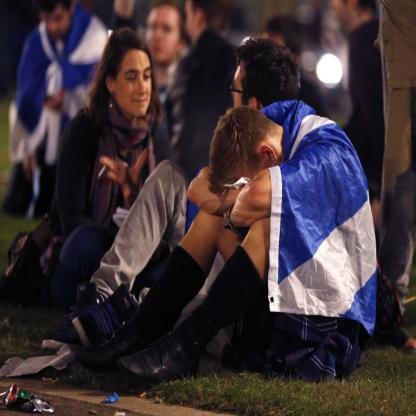face: (119, 53, 152, 117), (149, 8, 180, 61), (232, 65, 255, 128), (42, 3, 69, 41), (334, 1, 352, 32), (186, 4, 198, 38)
